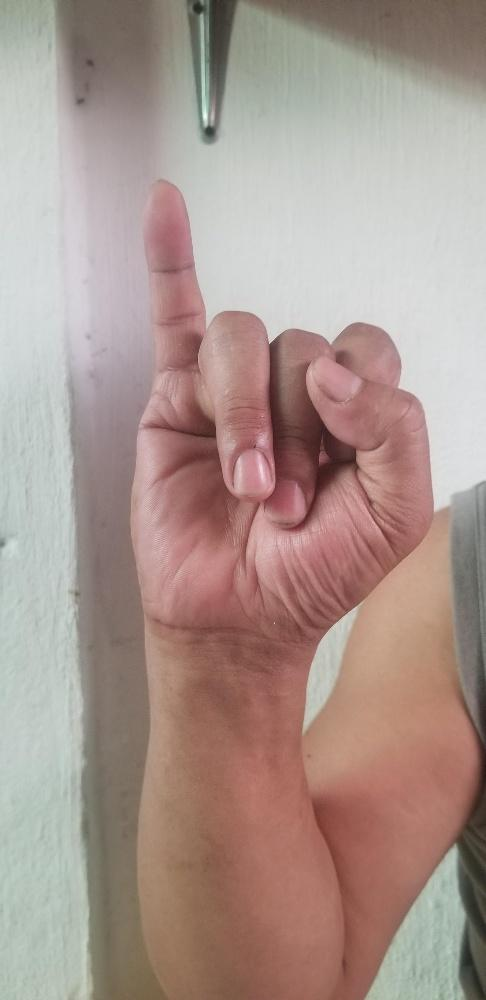i: (130, 178, 436, 625)
